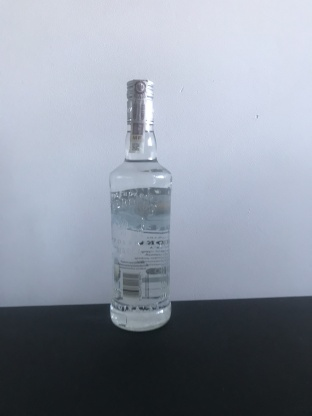nakretka: (123, 74, 156, 128)
